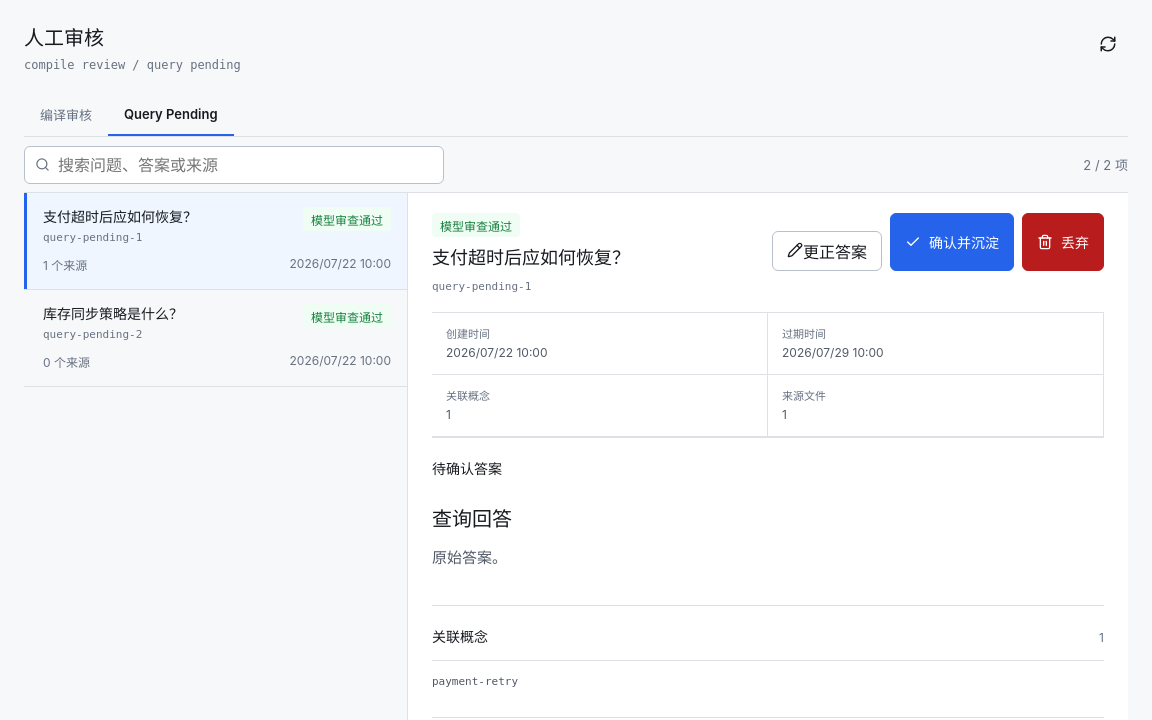
Test case: reviews page › shows pending query evidence and filters the full client-side list
Check: the heading "支付超时后应如何恢复？" is shown, box [432, 247, 630, 268]
Check: the element named "待确认答案正文" shows "原始答案", box [432, 548, 507, 567]
Type "库存" into the search field named "搜索待确认查询". click: (246, 164)
box: [58, 154, 433, 174]
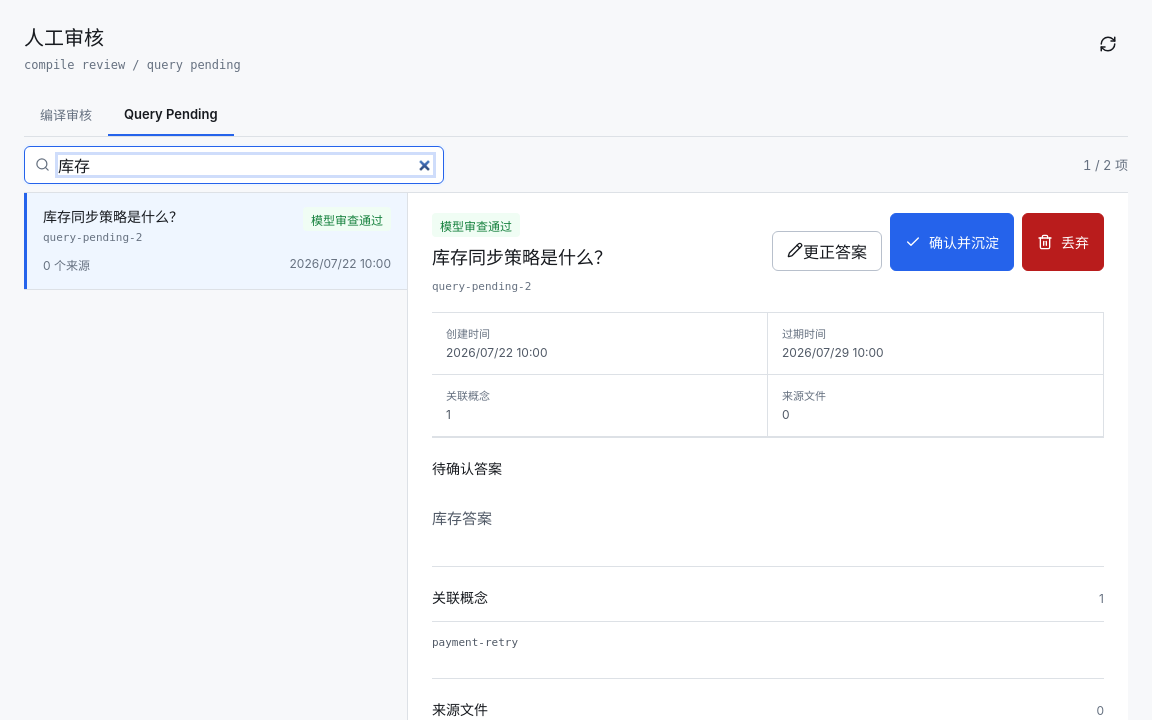
Check: the heading "库存同步策略是什么？" is shown, box [432, 247, 612, 268]
Check: the button "支付超时后应如何恢复？" is gone
